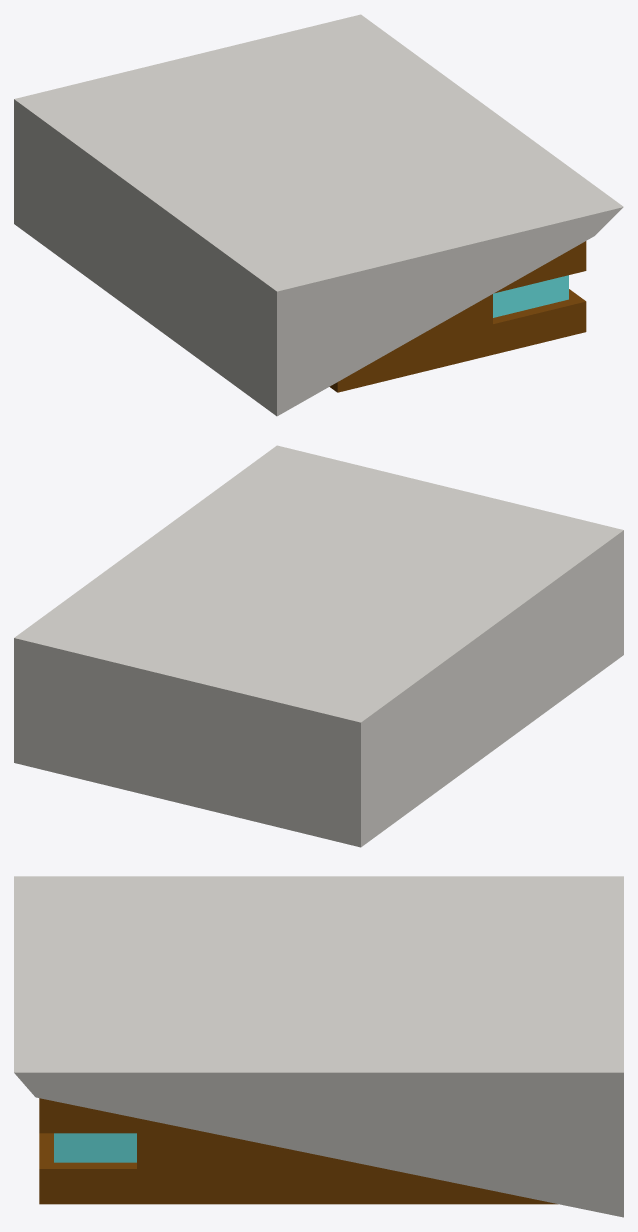
Rendered from CityMarket.fbx.
3 views of the same model, one above another, from view 1: azimuth 30°, elevation 25°; view 2: azimuth 150°, elevation 25°; view 3: azimuth 270°, elevation 25° (orthographic). The views are drawn at different scales.
Visible parts, largest first — view 1: Cube; view 2: Cube; view 3: Cube.
Part boxes in pixels (left/top/right/bottom): Cube: left=14, top=14, right=623, bottom=416; Cube: left=14, top=445, right=623, bottom=847; Cube: left=14, top=876, right=623, bottom=1217.
Bounding box in the file's own units: 13711 × 4778 × 18004.
